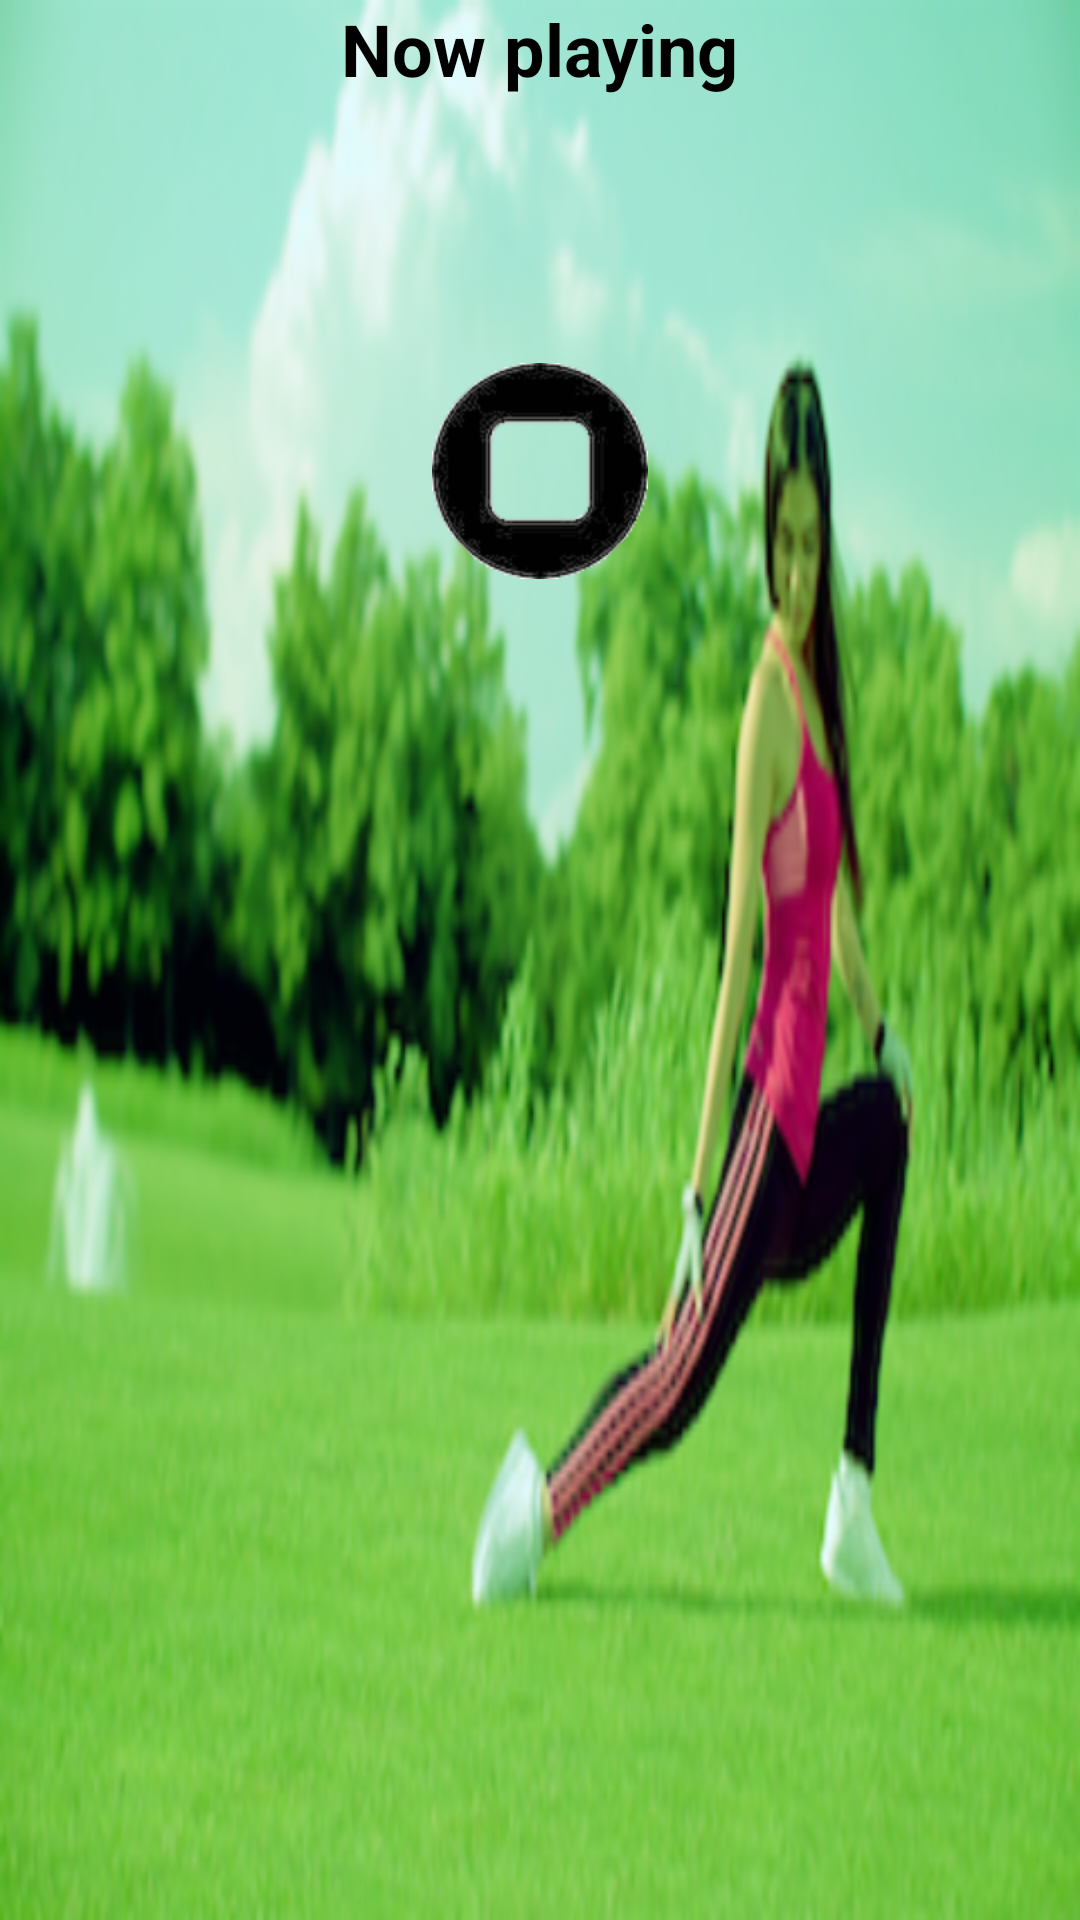

Icons on this 1080 × 1920 Android screen, each with the point to tap as point (x, y):
stop playing: point (540, 471)
